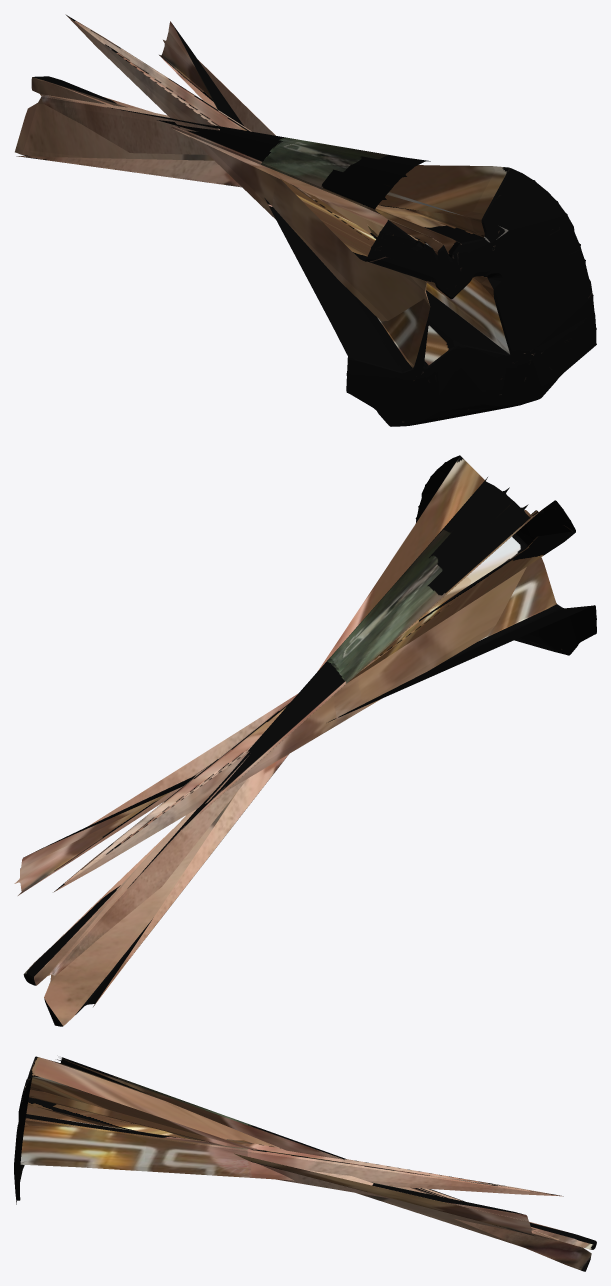
Rendered from baseline.glb.
The picture shows the model from 3 angles, top to bottom: view 1: azimuth 30°, elevation 25°; view 2: azimuth 150°, elevation 25°; view 3: azimuth 270°, elevation 25°; orthographic projection. The views are drawn at different scales.
Visible parts, largest first — view 1: geometry_0; view 2: geometry_0; view 3: geometry_0.
Boxes of the visible parts, bbox=[...] form: geometry_0: bbox=[15, 14, 596, 426]; geometry_0: bbox=[14, 455, 596, 1026]; geometry_0: bbox=[14, 1056, 596, 1271].
Bounding box in the file's own units: 0.1466 × 0.1829 × 0.4916.
1 material, 1 textured.
